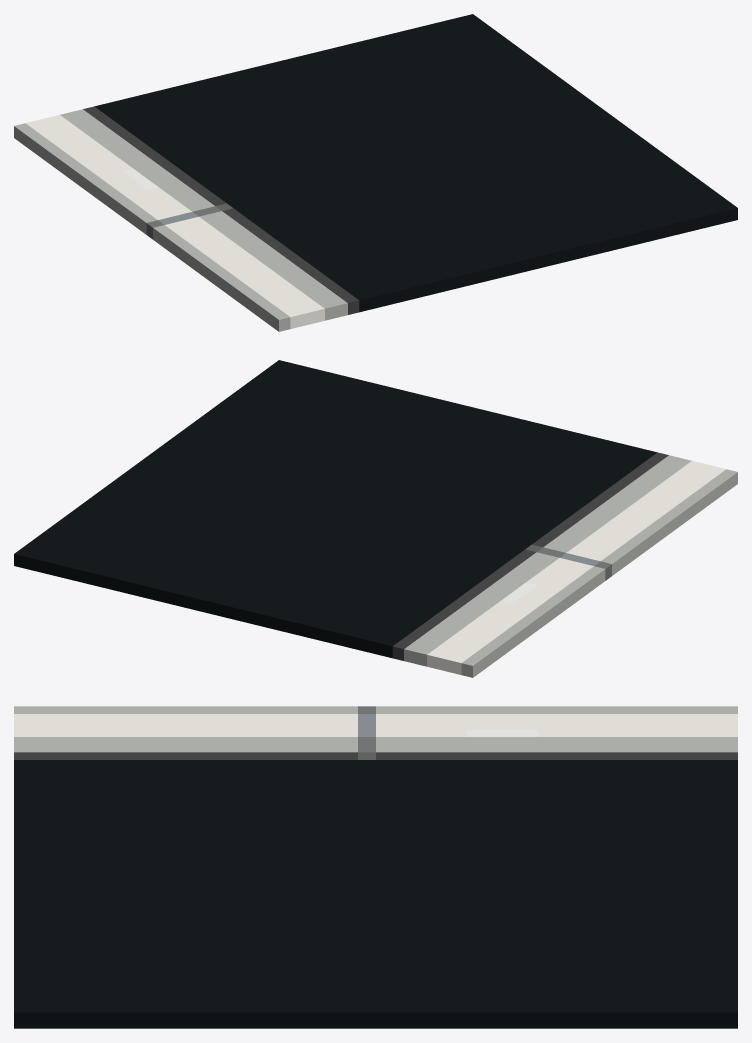
File: Chao_Asfalto_MeioFio.obj
3 views of the same model, one above another, from view 1: azimuth 30°, elevation 25°; view 2: azimuth 150°, elevation 25°; view 3: azimuth 270°, elevation 25° (orthographic). The views are drawn at different scales.
Size of the model in its own units: 40 by 1 by 40.
1 material, 1 textured.
